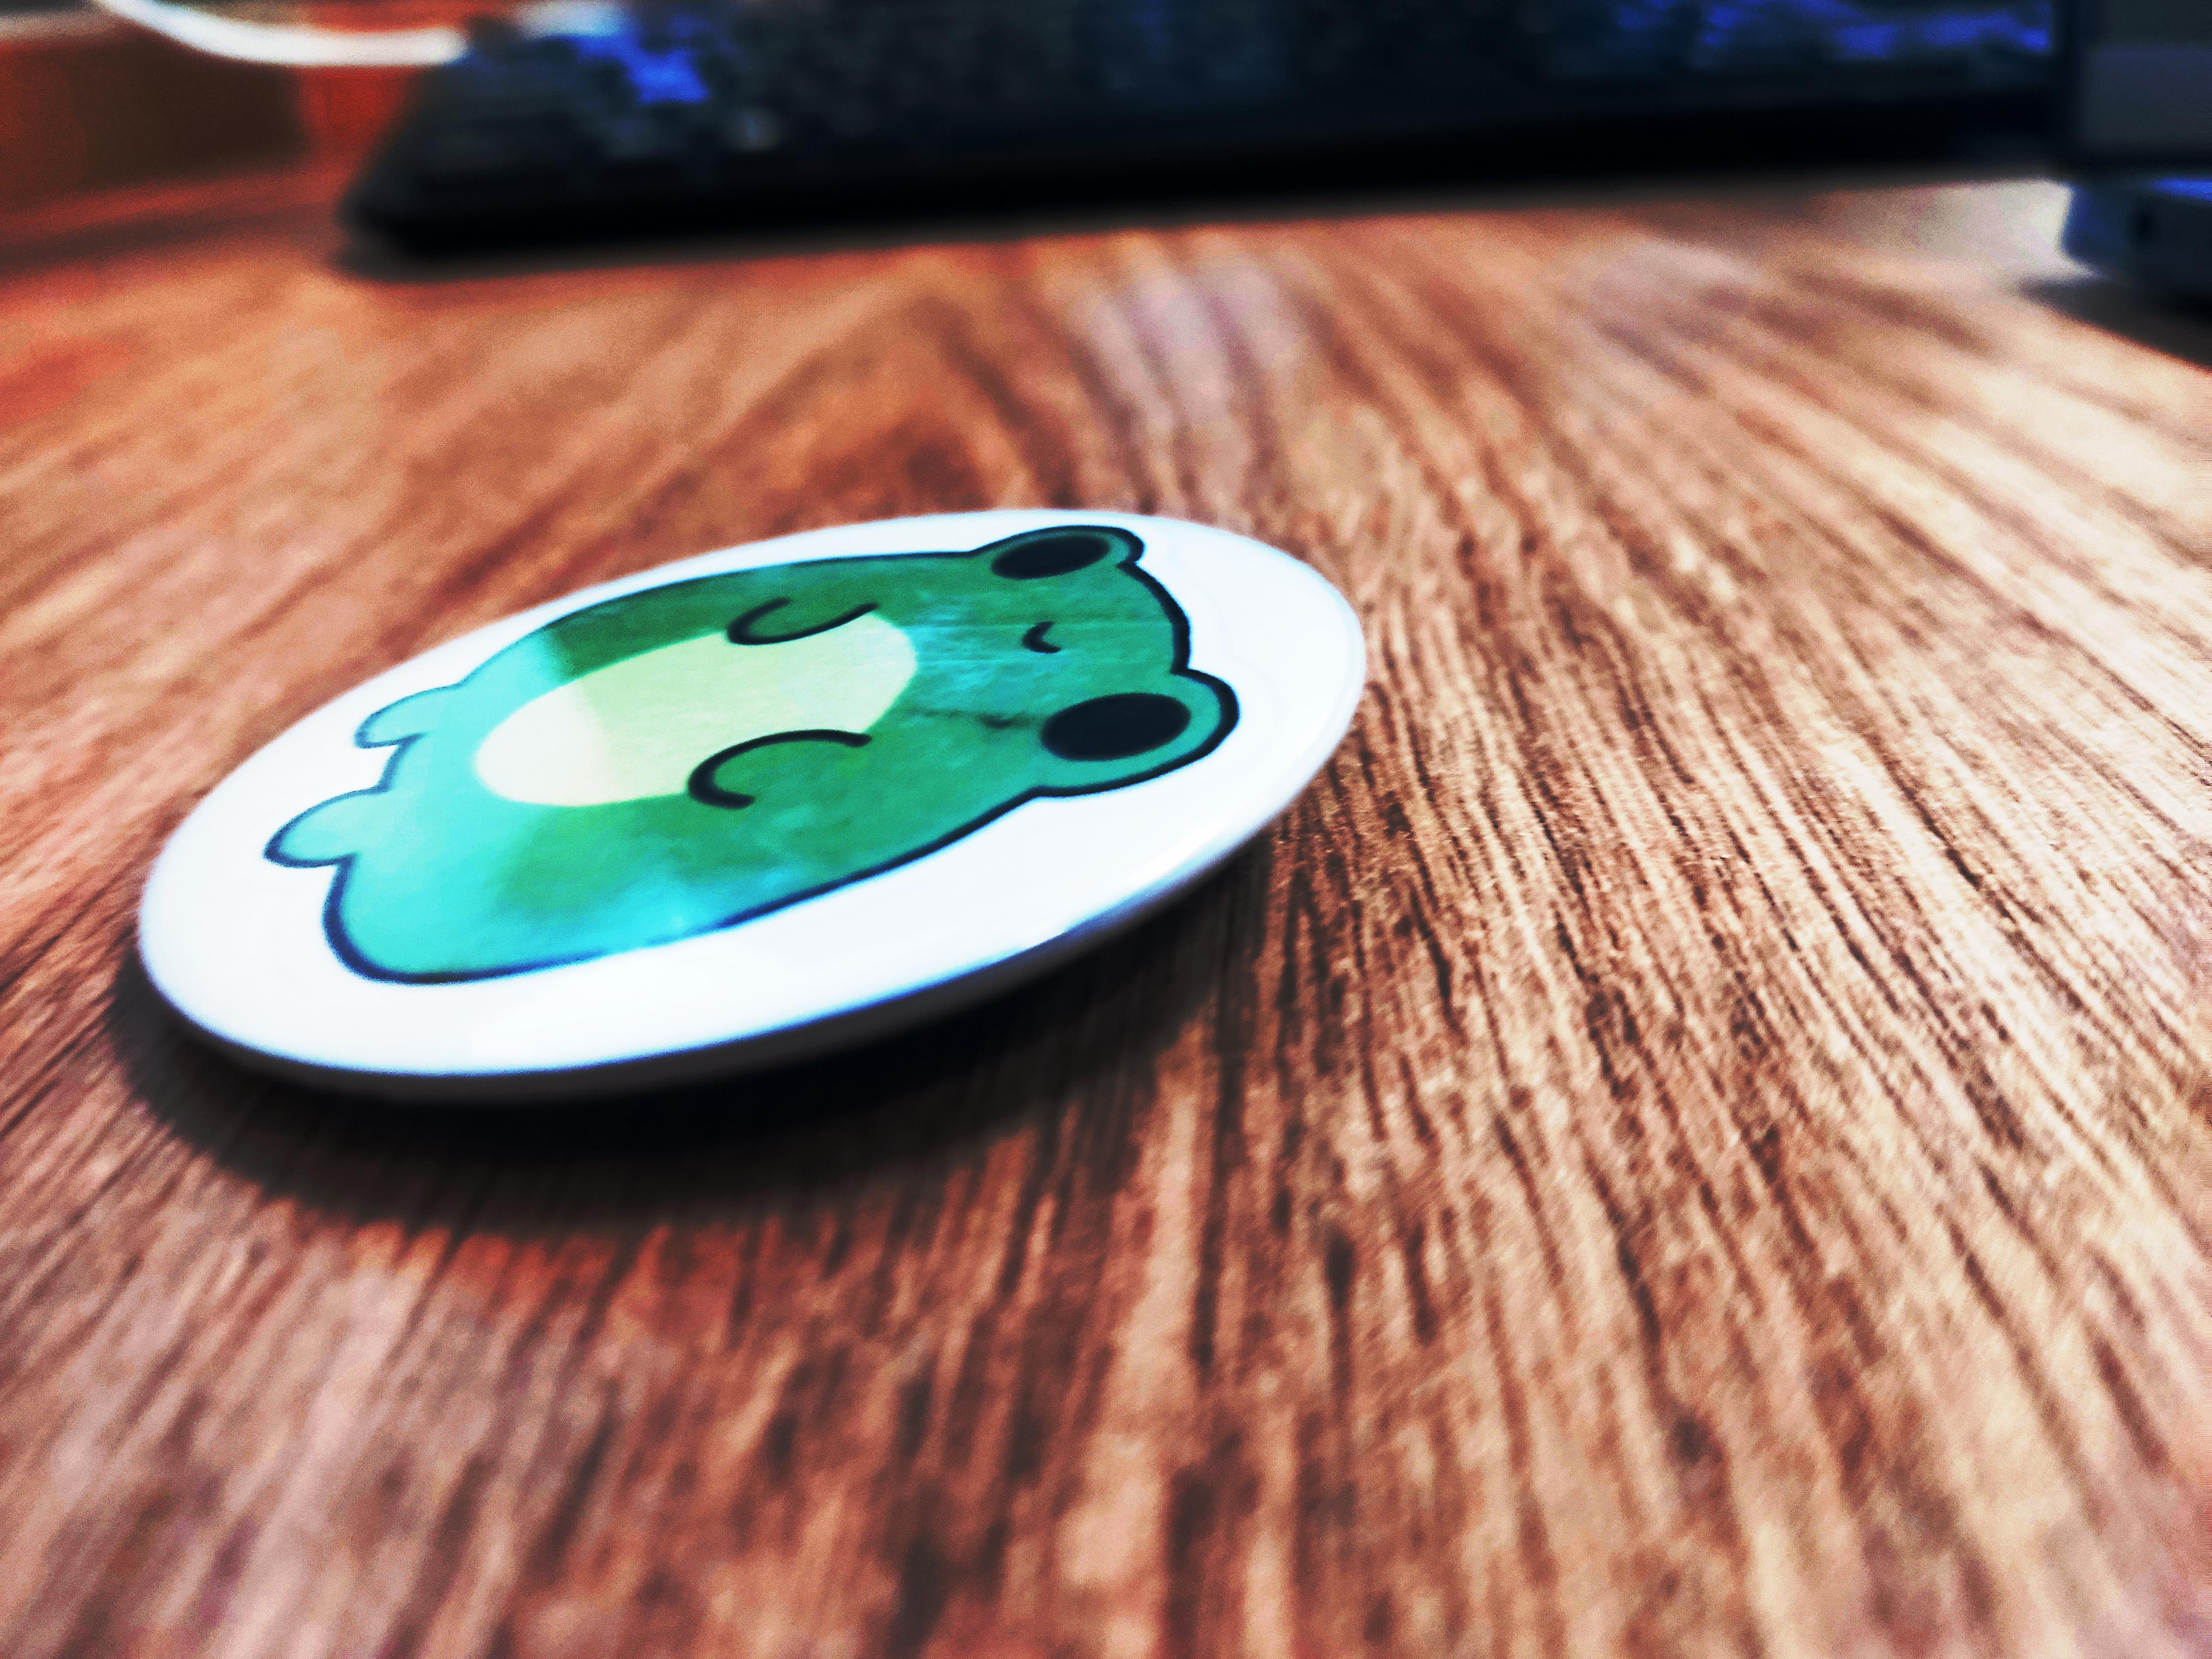pin: (111, 380, 1393, 1101)
